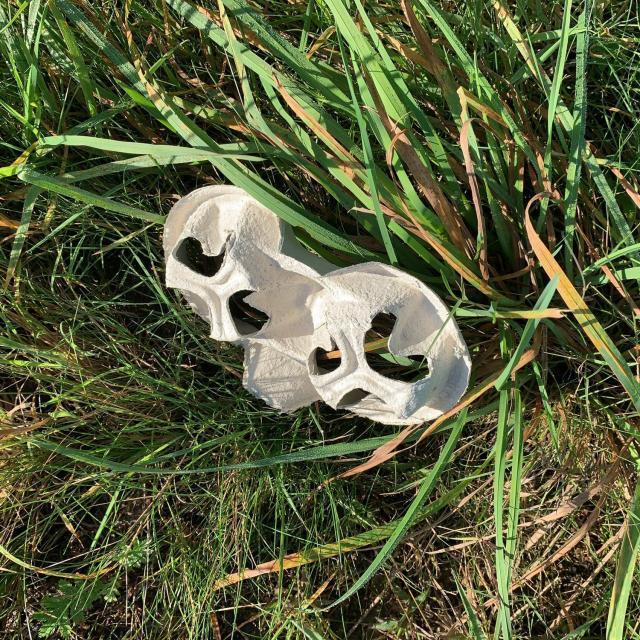Paper: (162, 182, 474, 428)
